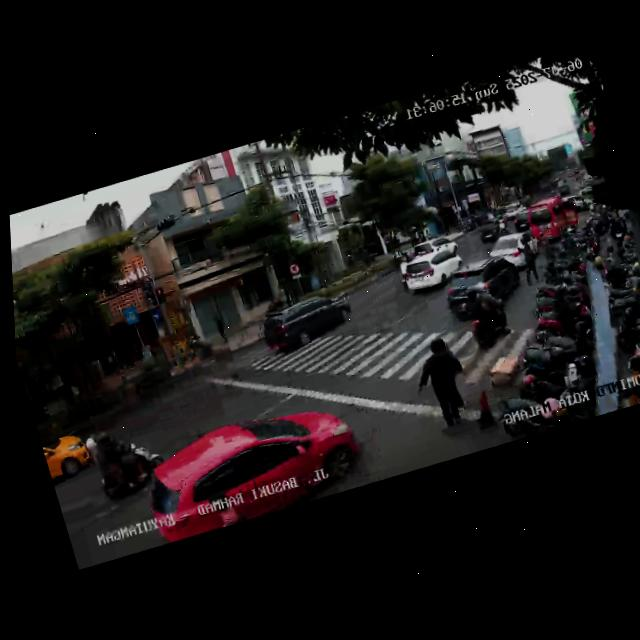car: (130, 391, 370, 547), (252, 284, 358, 363), (436, 250, 528, 325), (38, 419, 99, 491), (395, 242, 470, 299), (523, 190, 587, 248), (484, 229, 537, 277), (411, 232, 459, 264), (512, 211, 533, 233)
motorcycle: (80, 419, 164, 509), (458, 283, 517, 354)
person: (413, 332, 478, 439), (511, 233, 544, 288)
